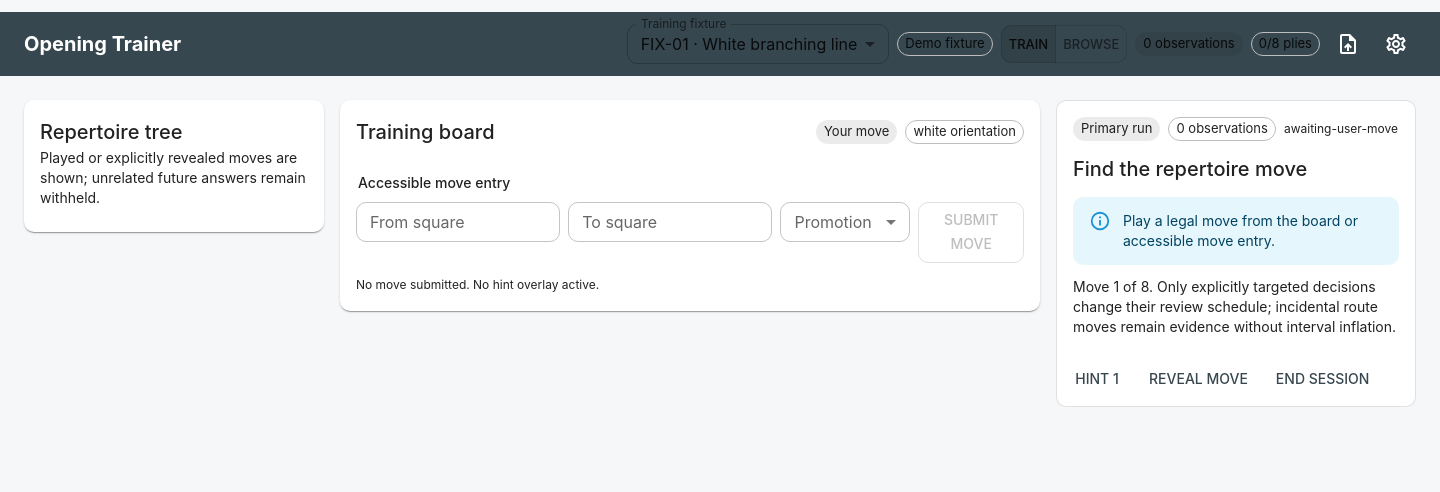
it: training shell with PHASE-3 graph integration › classifies a known sibling separately and offers repair on the legacy fixture
Type "e2" into the field labelled "From square" at x=458, y=222, box [356, 202, 560, 242]
Type "e4" into the field labelled "To square" at x=670, y=222, box [568, 202, 772, 242]
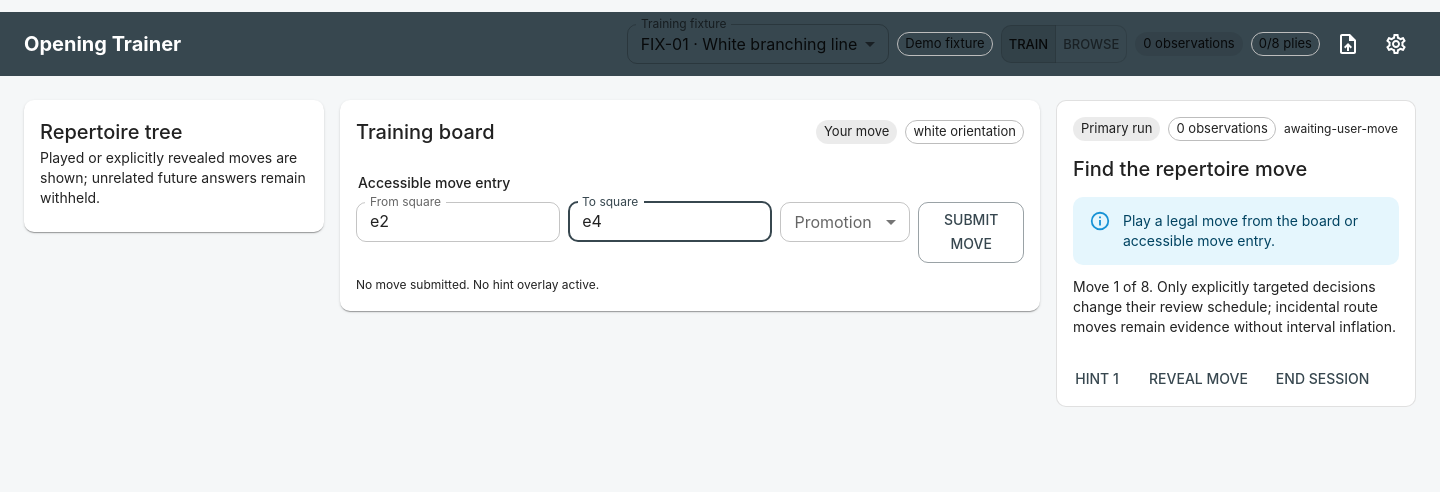
Click the button "Submit move" at x=971, y=232, box [918, 202, 1024, 263]
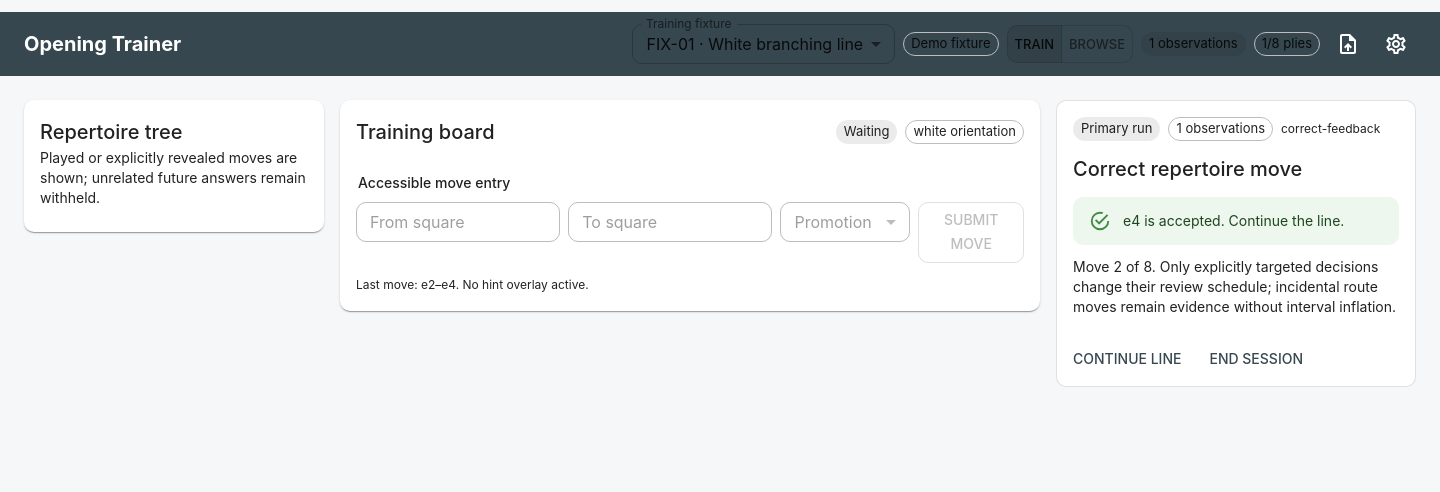
Click the button "Continue line" at x=1127, y=359, box [1065, 341, 1189, 378]
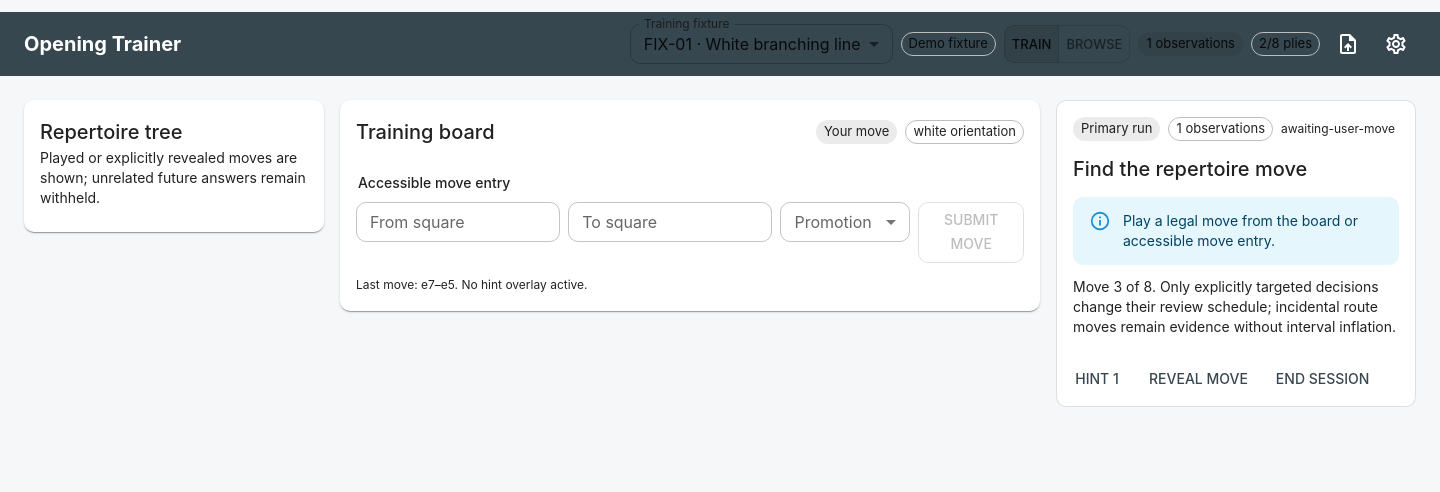
Expected: the heading "Find the repertoire move" is shown, [1073, 157, 1307, 181]
Type "b1" into the field labelled "From square" at x=458, y=222, box [356, 202, 560, 242]
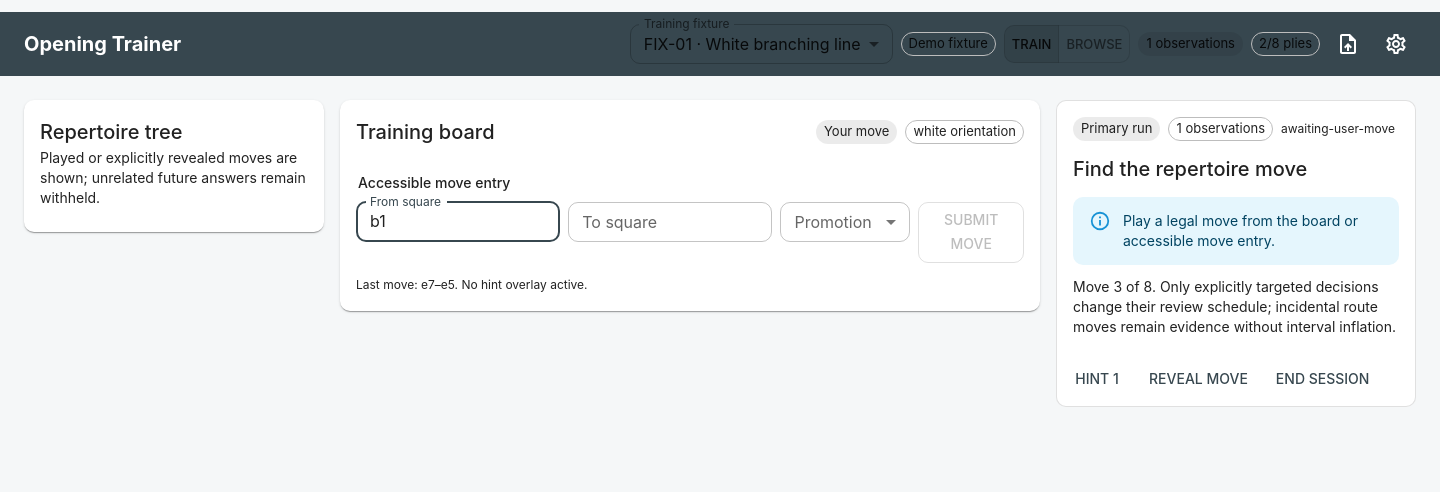
Type "c3" into the field labelled "To square" at x=670, y=222, box [568, 202, 772, 242]
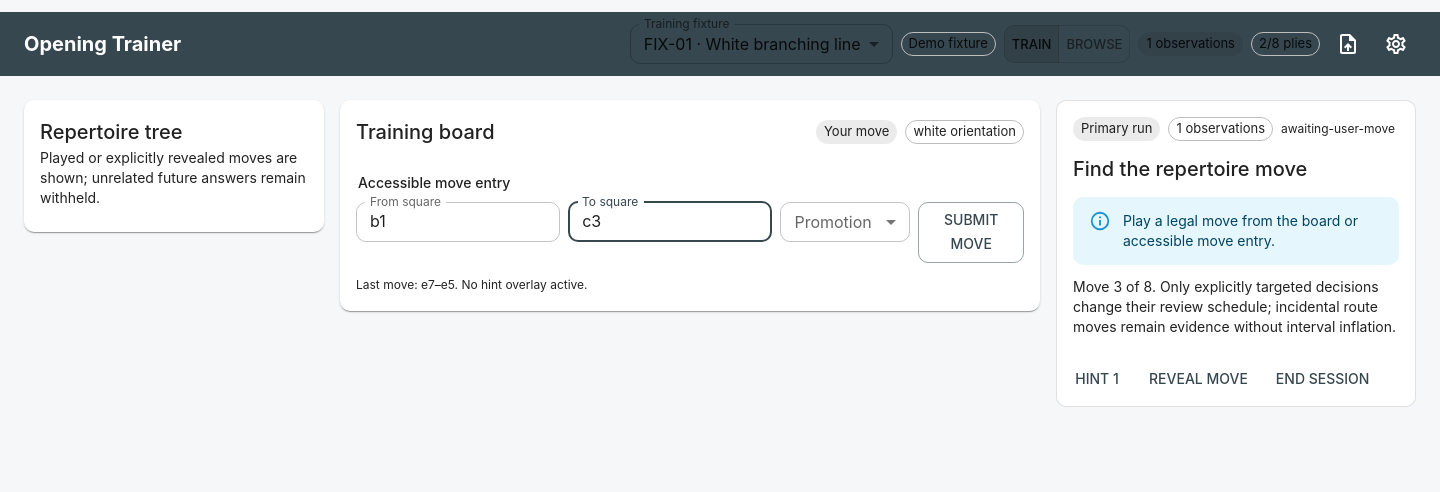
Click the button "Submit move" at x=971, y=232, box [918, 202, 1024, 263]
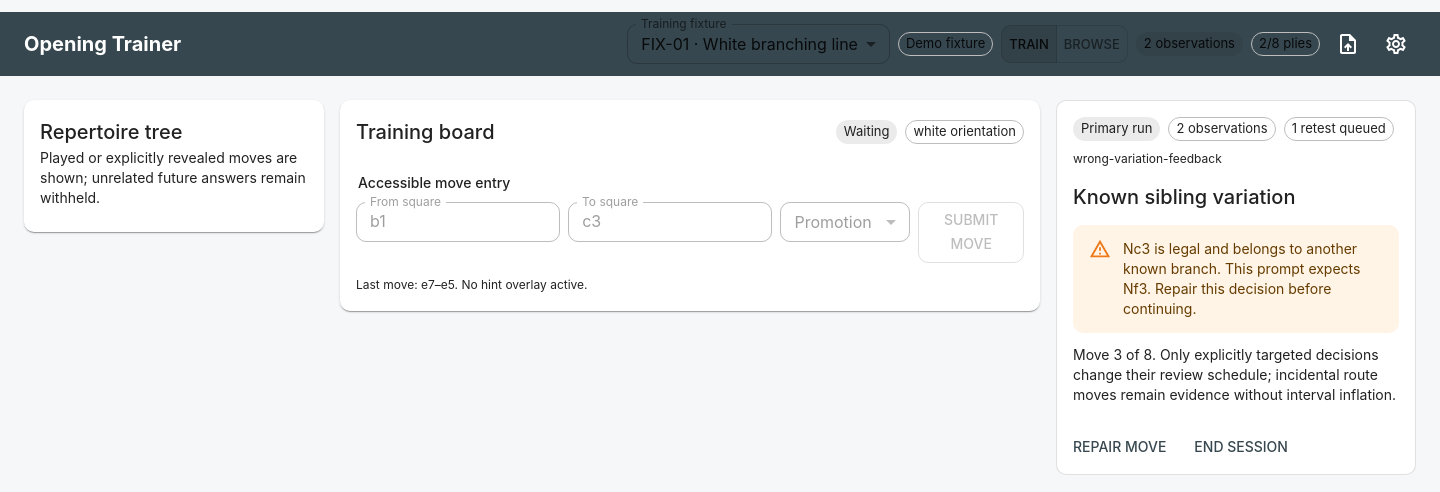
Expected: the heading "Known sibling variation" is shown, [1073, 185, 1296, 209]
Expected: the text "This prompt expects Nf3" is shown, [1123, 240, 1360, 317]
Expected: the button "Repair move" is shown, [1065, 429, 1174, 466]
